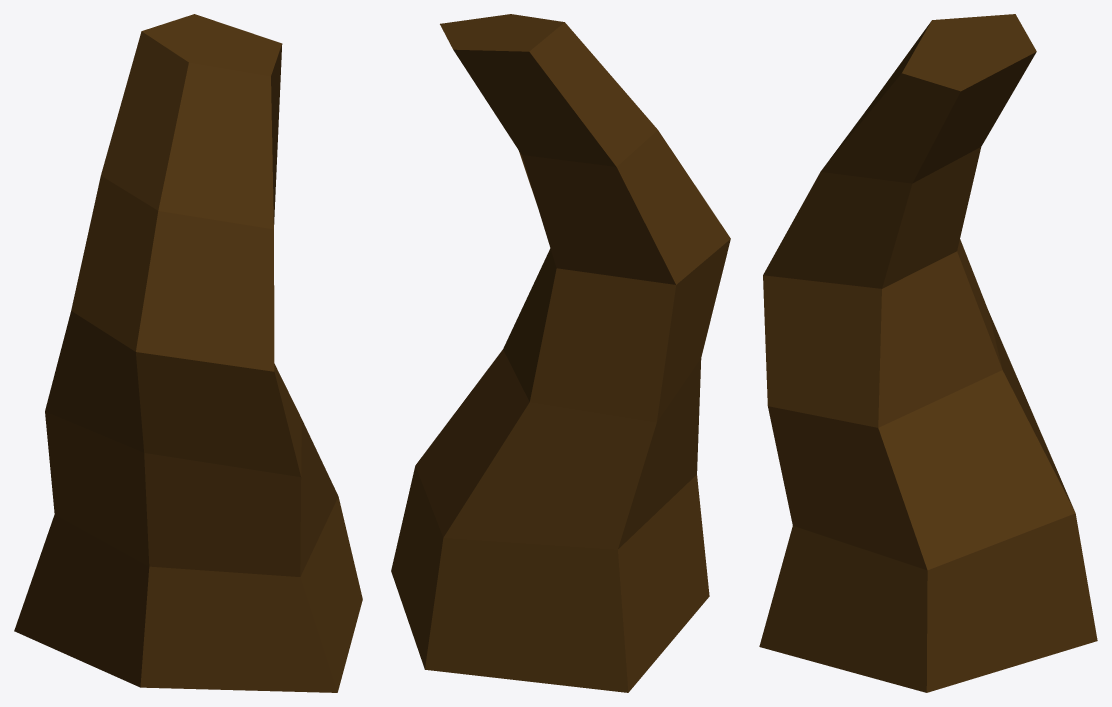
Rendered from pino_talado.fbx.
3 renders of one model, left to right at view 1: azimuth 30°, elevation 25°; view 2: azimuth 150°, elevation 25°; view 3: azimuth 270°, elevation 25°, orthographic. The views are drawn at different scales.
Visible parts, largest first — view 1: Cylinder076; view 2: Cylinder076; view 3: Cylinder076.
Boxes of the visible parts, x1=… form: Cylinder076: x1=14, y1=14, x2=362, y2=692; Cylinder076: x1=391, y1=14, x2=730, y2=692; Cylinder076: x1=759, y1=14, x2=1097, y2=692.
Size of the model in its own units: 38.31 by 74.18 by 38.04.
